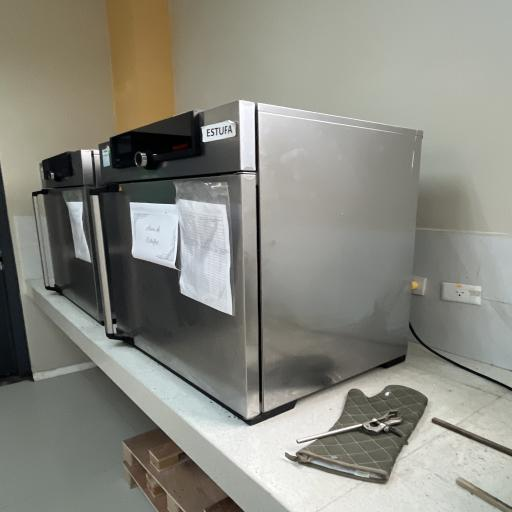Estufa_Memmert: (92, 94, 438, 436)
